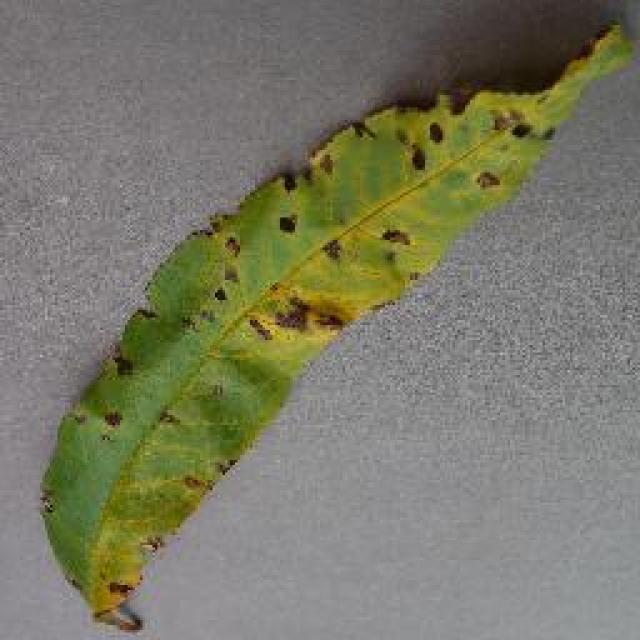Peach_Bacterial_Spot: (150, 116, 488, 426)
